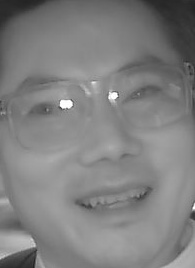eye: (124, 84, 161, 104), (25, 100, 61, 118)
glass: (8, 82, 89, 153), (107, 63, 187, 130)
mouth: (67, 180, 153, 222)
